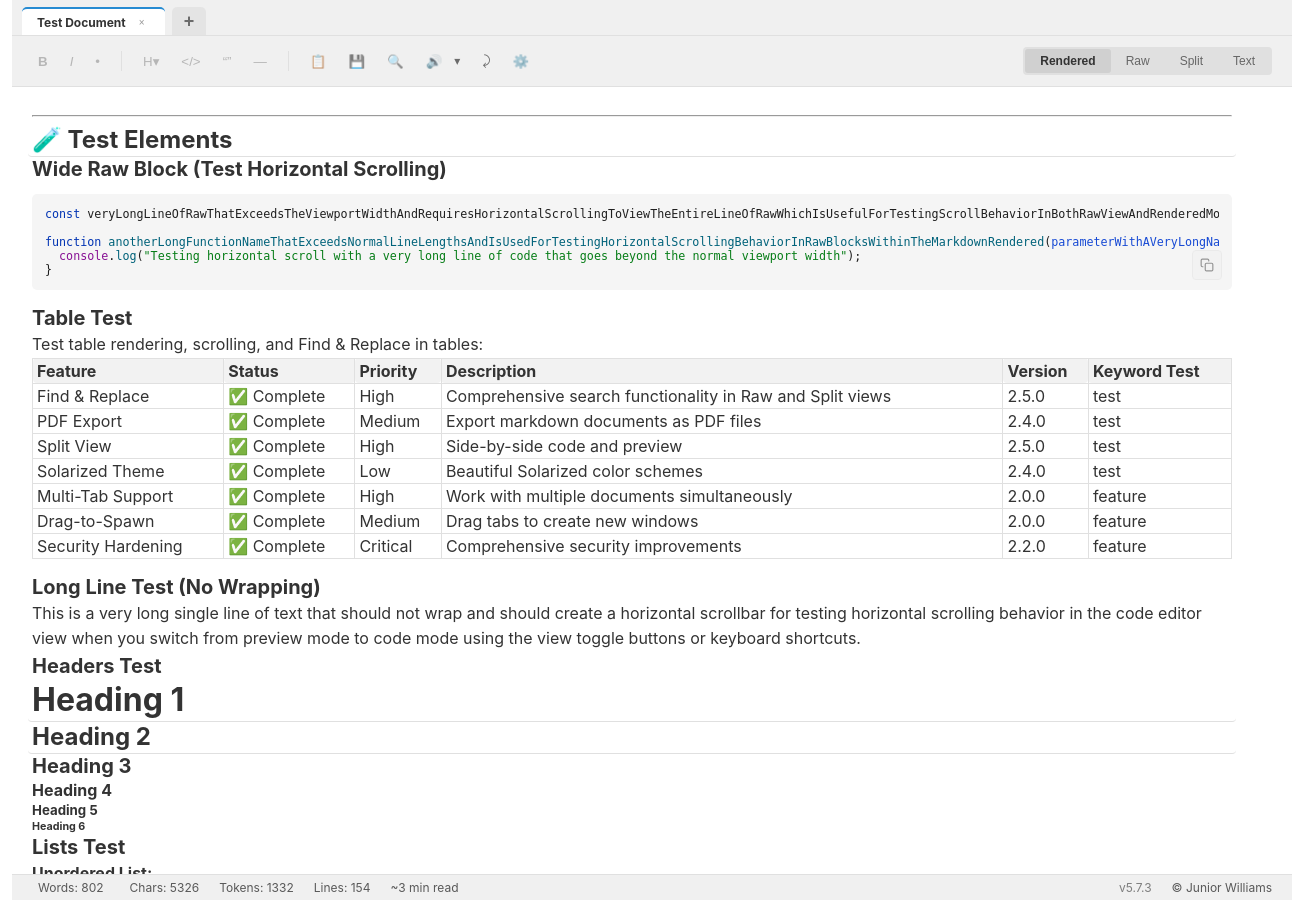
Test case: App Integration Tests › Tab Management › should close a tab when clicking the close button
Note: Create a new tab
Click the button named "New document": (189, 21) x1=172 y1=7 x2=206 y2=35
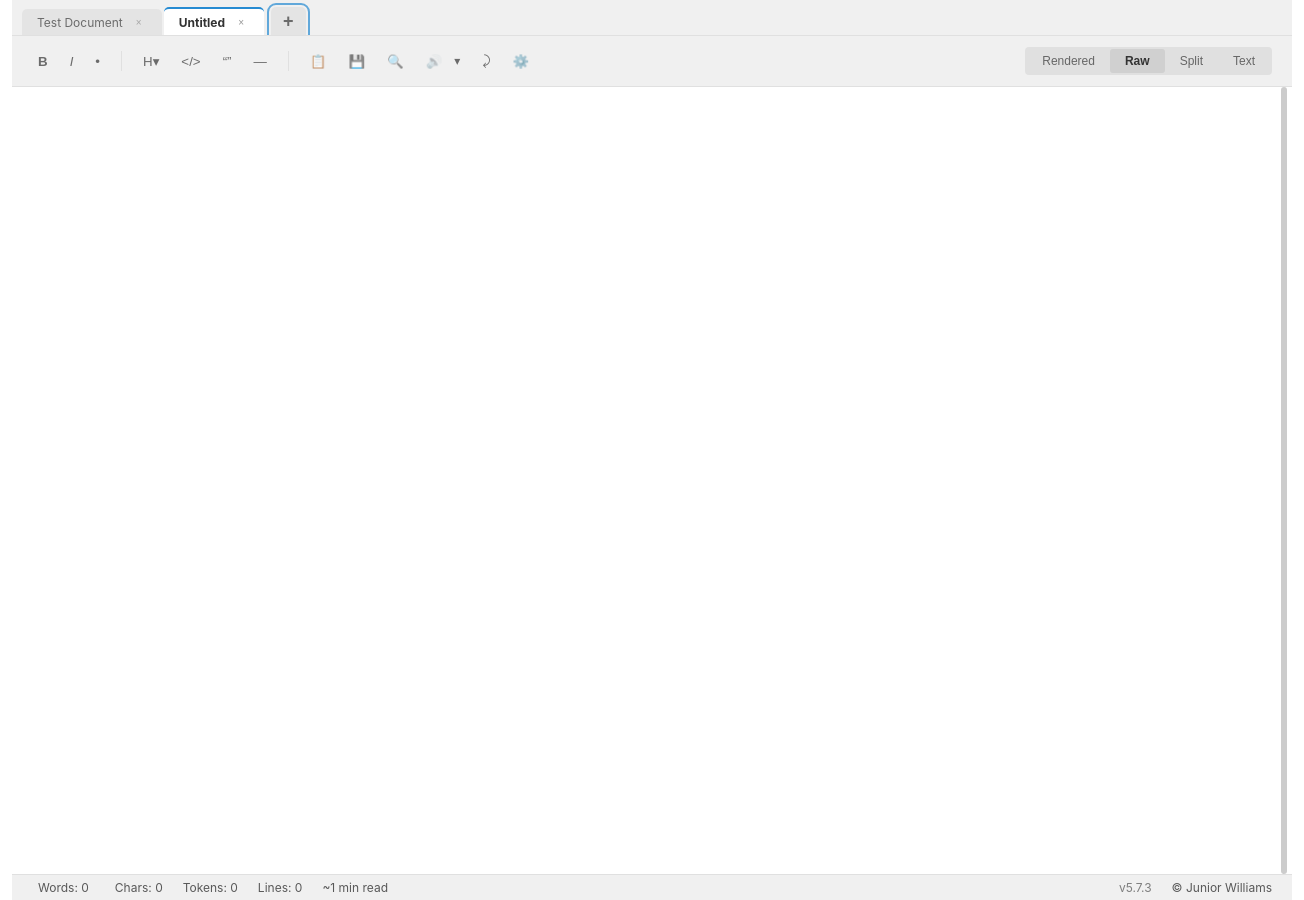
Note: Find close button for Untitled tab
Click the button named "Close Untitled": (241, 22) x1=233 y1=14 x2=249 y2=30
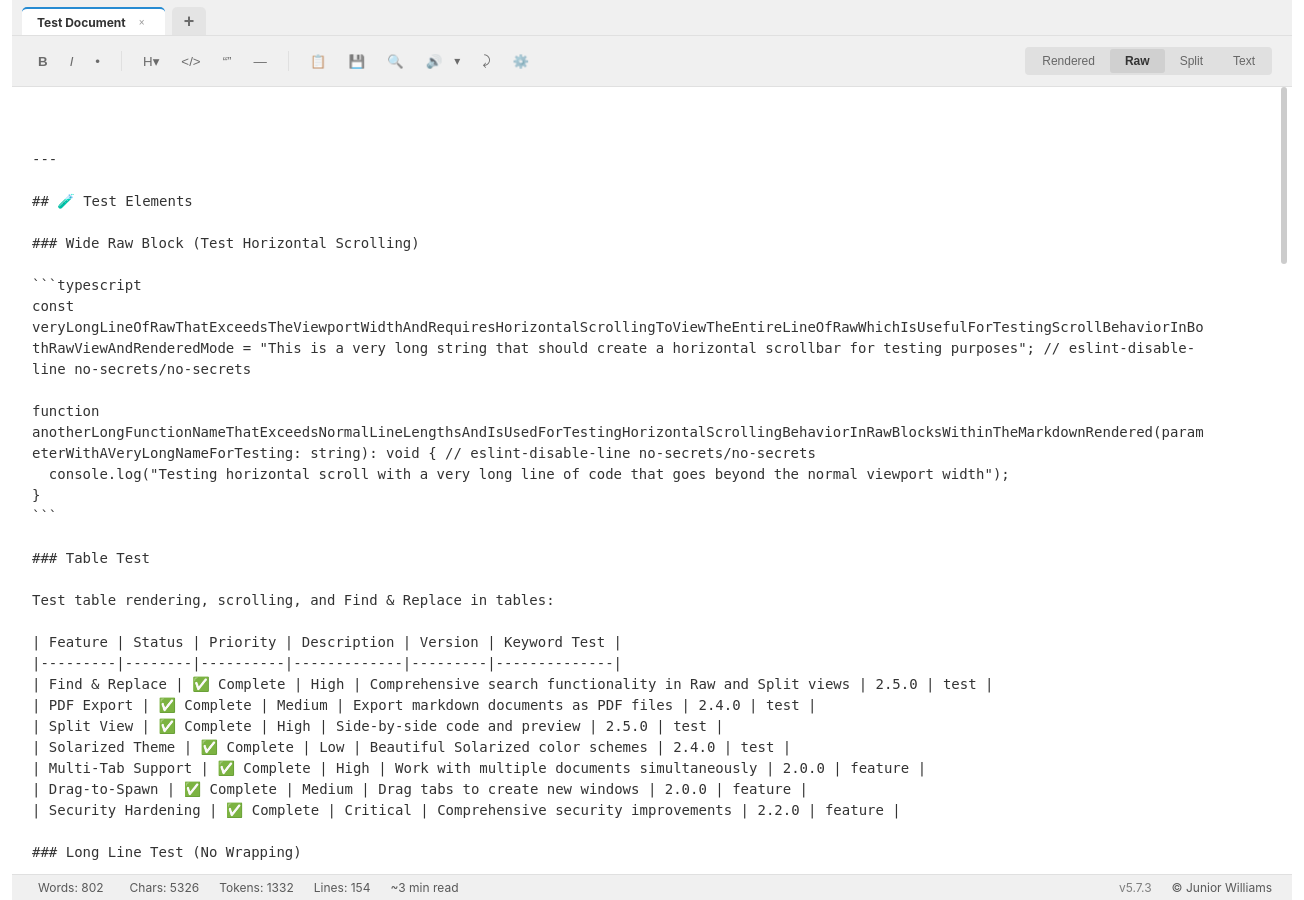
Expected: the tab "Untitled" is gone
